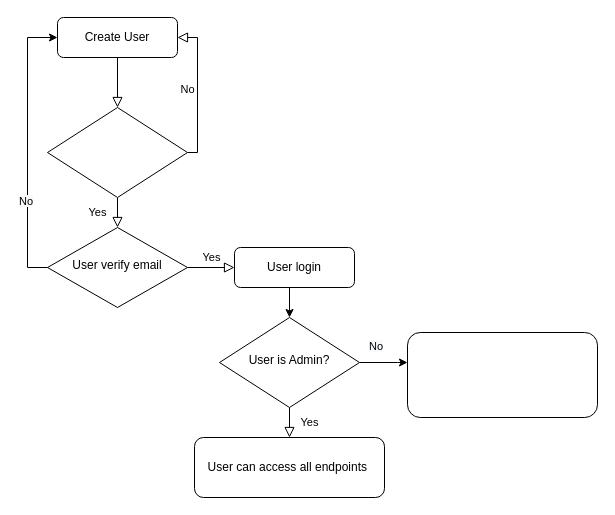
The diagram is 615 pixels wide and 515 high, and some of its shapes have lost their labels. Each missing label, with the centre of its shape:
"User can access /auth/user endpoint only" goes at [502,375].
"User get email verification" goes at [117,152].
